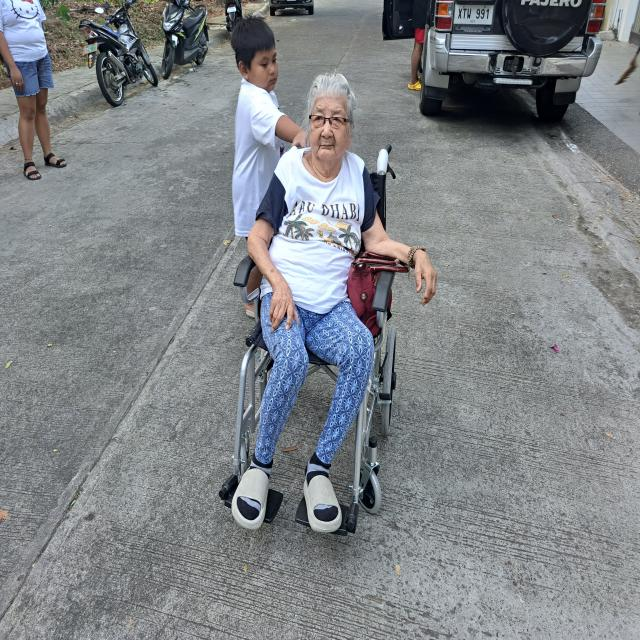wheelchairs: (223, 140, 405, 550)
